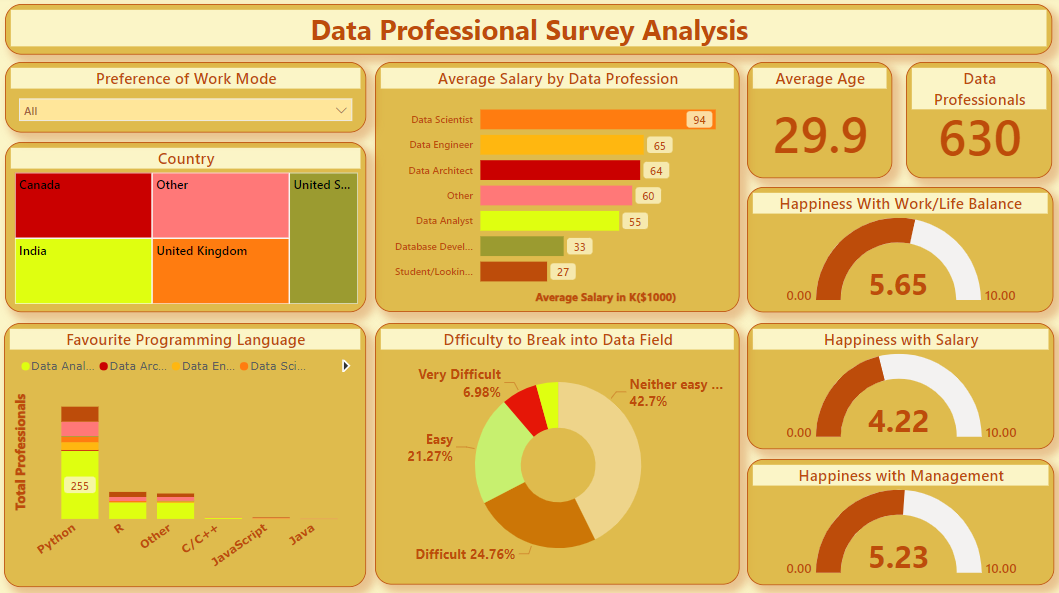

The page's visual inventory and layout, read from the dashboard file:
{"tool":"powerbi","page":{"name":"Page 1","canvas":[1280,720],"ordinal":0},"visuals":[{"type":"textbox","title":"Data Professional Survey Analysis","box":[9.6,9.6,1260.7,60.6],"z":0},{"type":"card","title":"Average Age","fields":{"Values":["Avg(Data Professional Survey.Q10 - Current Age)"]},"box":[903,79.5,174.6,139.7],"z":1000},{"type":"card","title":"Data Professionals","fields":{"Values":["CountNonNull(Data Professional Survey.Unique ID)"]},"box":[1094.4,79.5,175.8,139.7],"z":2000},{"type":"barChart","title":"Average Salary by Data Profession","fields":{"Category":["Data Professional Survey.Q1 - Which Title Best Fits your Current Role?"],"Y":["Avg(Data Professional Survey.Average Salary)"]},"box":[455.1,79.5,439.5,301],"z":3000},{"type":"columnChart","title":"Favourite Programming Language","fields":{"Category":["Data Professional Survey.Q5 - Favorite Programming Language"],"Y":["CountNonNull(Data Professional Survey.Unique ID)"],"Series":["Data Professional Survey.Q1 - Which Title Best Fits your Current Role?"]},"box":[8.4,393.7,435.9,317.9],"z":4000},{"type":"gauge","title":"Happiness With Work/Life Balance","fields":{"Y":["Avg(Data Professional Survey.Q6 - How Happy are you in your Current Position with the following? (Work/Life Balance))"],"MinValue":["Min(Data Professional Survey.Q6 - How Happy are you in your Current Position with the following? (Work/Life Balance))"],"MaxValue":["Max(Data Professional Survey.Q6 - How Happy are you in your Current Position with the following? (Work/Life Balance))1"]},"box":[902.5,230,368.8,151.2],"z":5000},{"type":"gauge","title":"Happiness with Salary","fields":{"MaxValue":["Max(Data Professional Survey.Q6 - How Happy are you in your Current Position with the following? (Salary))"],"MinValue":["Min(Data Professional Survey.Q6 - How Happy are you in your Current Position with the following? (Salary))"],"Y":["Avg(Data Professional Survey.Q6 - How Happy are you in your Current Position with the following? (Salary))"]},"box":[903,393.7,369.6,151.7],"z":6000},{"type":"donutChart","title":"Dfficulty to Break into Data Field","fields":{"Y":["CountNonNull(Data Professional Survey.Q7 - How difficult was it for you to break into Data?)"],"Category":["Data Professional Survey.Q7 - How difficult was it for you to break into Data?"]},"box":[455.1,393.7,439.5,315.5],"z":7000},{"type":"gauge","title":"Happiness with Management","fields":{"Y":["Avg(Data Professional Survey.Q6 - How Happy are you in your Current Position with the following? (Management))"],"MinValue":["Min(Data Professional Survey.Q6 - How Happy are you in your Current Position with the following? (Management))"],"MaxValue":["Max(Data Professional Survey.Q6 - How Happy are you in your Current Position with the following? (Management))"]},"box":[903,557.5,369.6,151.7],"z":8000},{"type":"treemap","title":"Country","fields":{"Group":["Data Professional Survey.Q11 - Which Country do you live in?"],"Values":["Count(Data Professional Survey.Q11 - Which Country do you live in?)"]},"box":[9.3,175.5,434.6,204.7],"z":9000},{"type":"slicer","title":"Preference  of Work Mode","fields":{"Values":["Data Professional Survey.Q8 - If you were to look for a new job today, what would be the most important."]},"box":[9.3,79.8,434.6,85.1],"z":10000}]}

Visuals, with their boxes in screenshot pixels (x1, y1, x2, y2), scaled from the page's 1280x720 canvas onto the 1059x593 screenshot:
"Data Professional Survey Analysis" textbox: crop(8, 8, 1051, 58)
"Average Age" card: crop(747, 65, 892, 181)
"Data Professionals" card: crop(905, 65, 1051, 181)
"Average Salary by Data Profession" barChart: crop(377, 65, 740, 313)
"Favourite Programming Language" columnChart: crop(7, 324, 368, 586)
"Happiness With Work/Life Balance" gauge: crop(747, 189, 1052, 314)
"Happiness with Salary" gauge: crop(747, 324, 1053, 449)
"Dfficulty to Break into Data Field" donutChart: crop(377, 324, 740, 584)
"Happiness with Management" gauge: crop(747, 459, 1053, 584)
"Country" treemap: crop(8, 145, 367, 313)
"Preference  of Work Mode" slicer: crop(8, 66, 367, 136)
